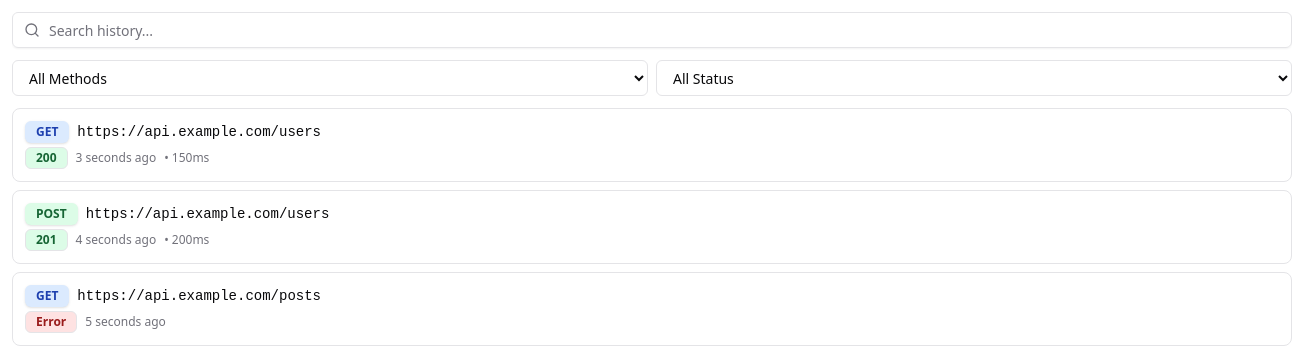
Test case: HistoryList › should combine search and filters
Apply method filter
Select "GET" in the dropdown named "method": point(330, 78) 12,60 -> 648,96
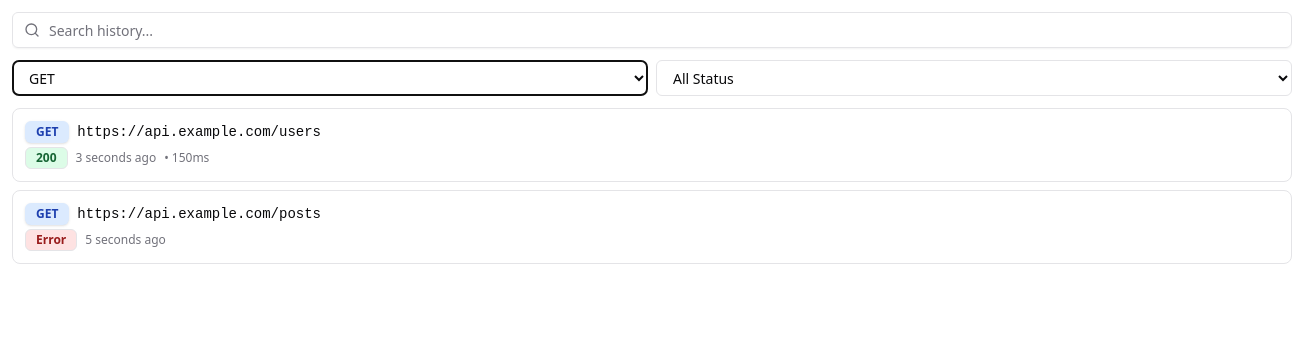
Apply search
In the field with placeholder "Search history...": point(652, 30) 12,12 -> 1292,48, type "users"
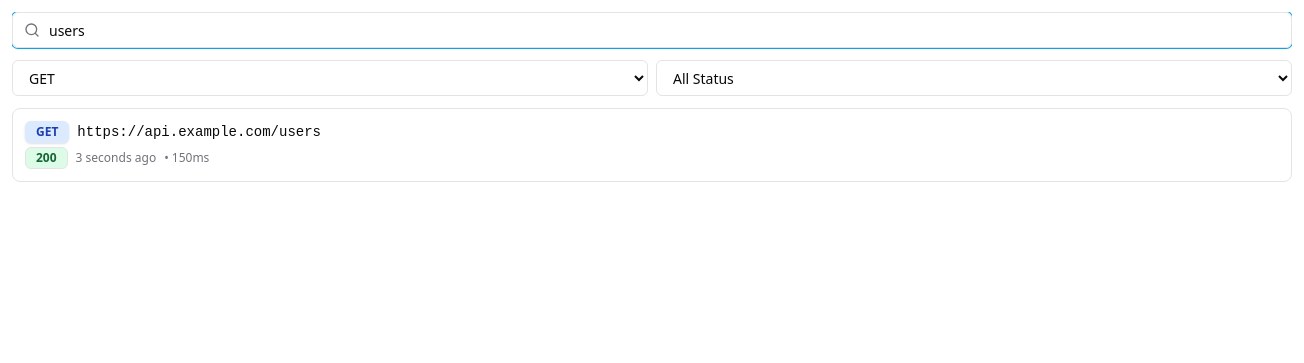
Expected: the text "https://api.example.com/users" is shown, 77,124 -> 321,140
Result: the button "posts" is gone
